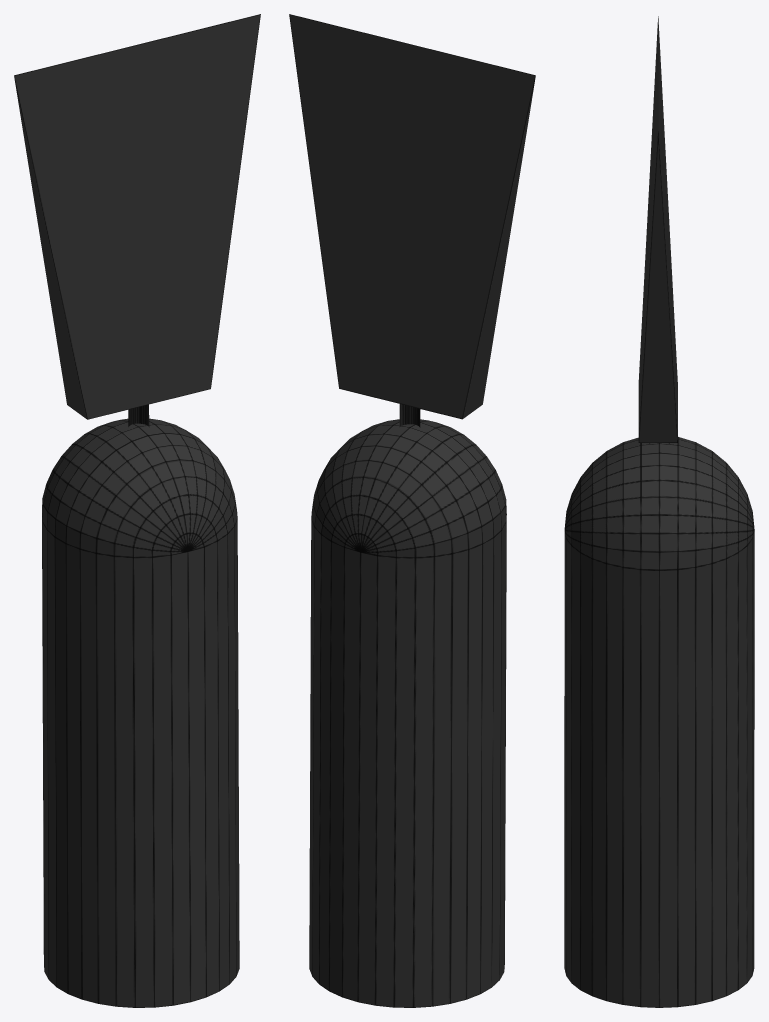
The model's file is Chisel.fbx.
3 views of the same model, side by side, from view 1: azimuth 30°, elevation 25°; view 2: azimuth 150°, elevation 25°; view 3: azimuth 270°, elevation 25° (orthographic). The views are drawn at different scales.
Parts seen in each view (by area): view 1: Cylinder; view 2: Cylinder; view 3: Cylinder.
Part boxes in pixels (<box>): Cylinder: <box>14,14,260,1007</box>; Cylinder: <box>289,14,535,1007</box>; Cylinder: <box>564,16,754,1007</box>.
Bounding box in the file's own units: 48.99 × 175 × 33.74.
